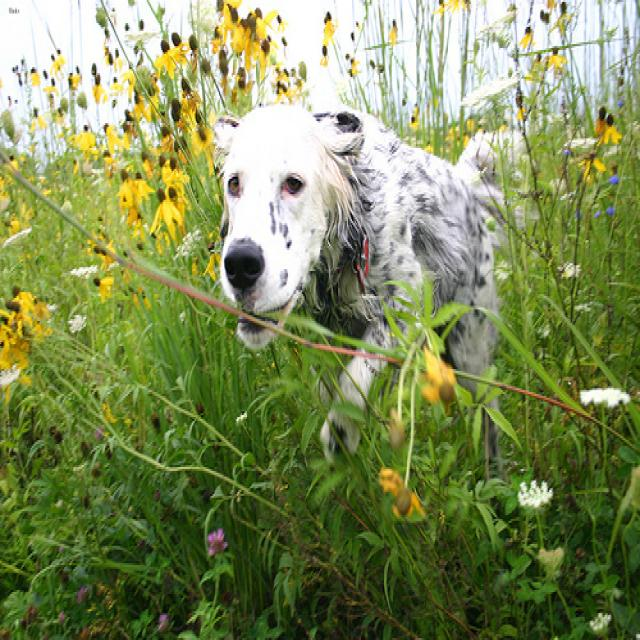dog-english_setter: (207, 94, 508, 477)
